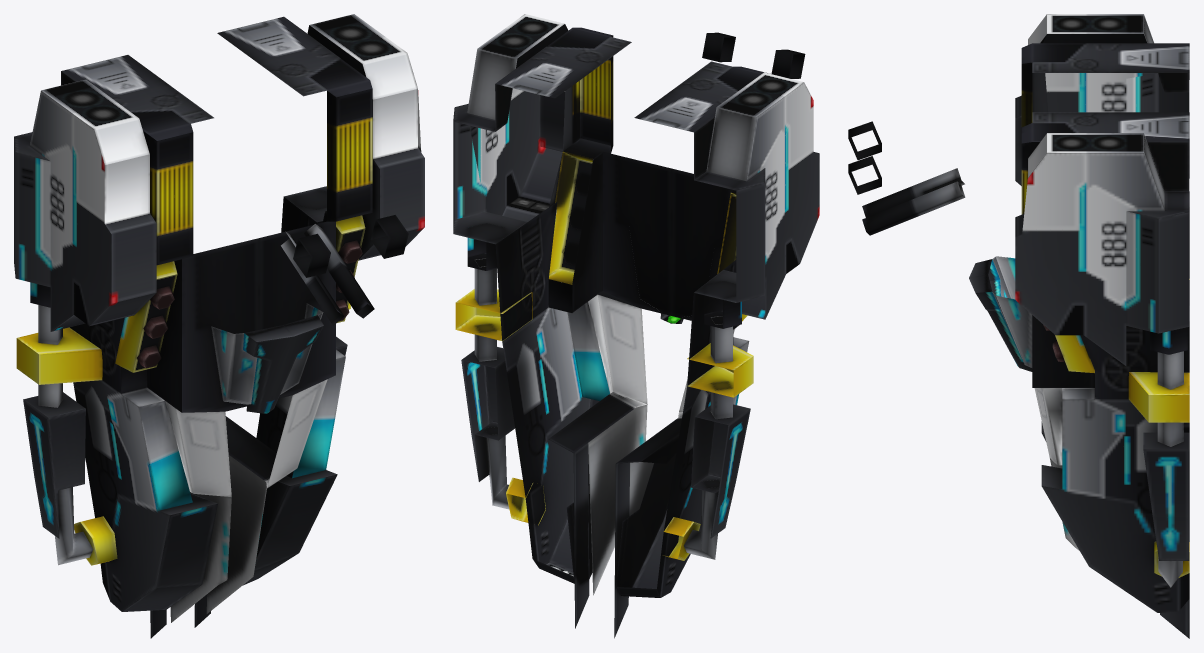
The model's file is datan_common_ss0_base6_7334670a.obj.
The picture shows the model from 3 angles, left to right: view 1: azimuth 30°, elevation 25°; view 2: azimuth 150°, elevation 25°; view 3: azimuth 270°, elevation 25°; orthographic projection. The views are drawn at different scales.
Visible parts, largest first — view 1: datan_common_ss0_base6_7334670a; view 2: datan_common_ss0_base6_7334670a; view 3: datan_common_ss0_base6_7334670a.
Boxes of the visible parts, box(x1,y1,x2,y2) form: datan_common_ss0_base6_7334670a: box(14, 14, 424, 638); datan_common_ss0_base6_7334670a: box(453, 14, 819, 638); datan_common_ss0_base6_7334670a: box(848, 14, 1189, 638).
Bounding box in the file's own units: 4.29 × 7.06 × 4.
Materials: 1 (1 with a texture image).
